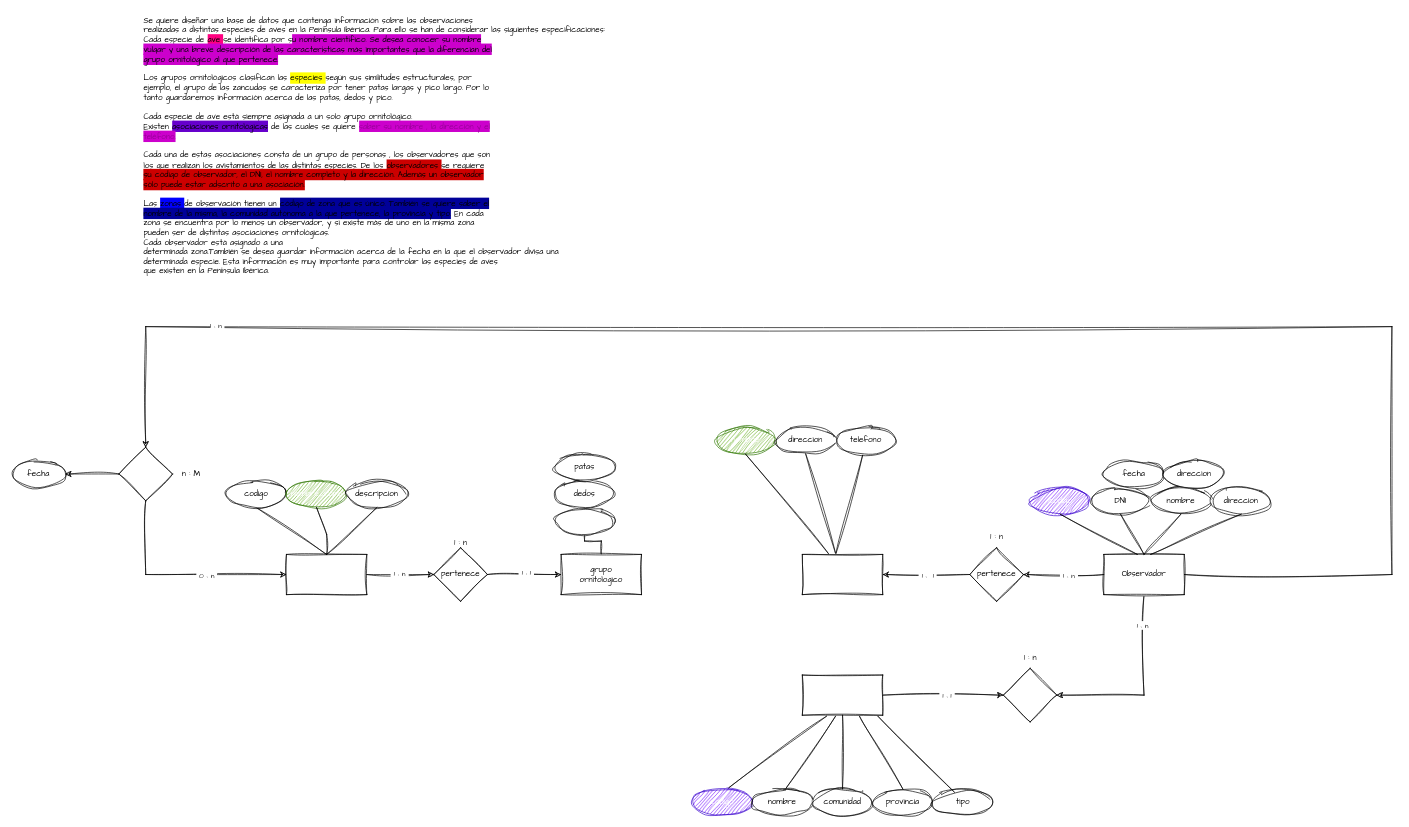
Some shapes in this 1409 by 827 pixel diagram are drawn without their labels. Here are the shapes that lost their labels. From the top down, the box of each, then its label:
(118, 447, 173, 501): observa
(554, 507, 615, 534): picos
(286, 554, 367, 595): Ave
(802, 554, 883, 595): asociacion ornitologico
(802, 674, 883, 715): Zona observacion
(1003, 668, 1057, 722): asignado
